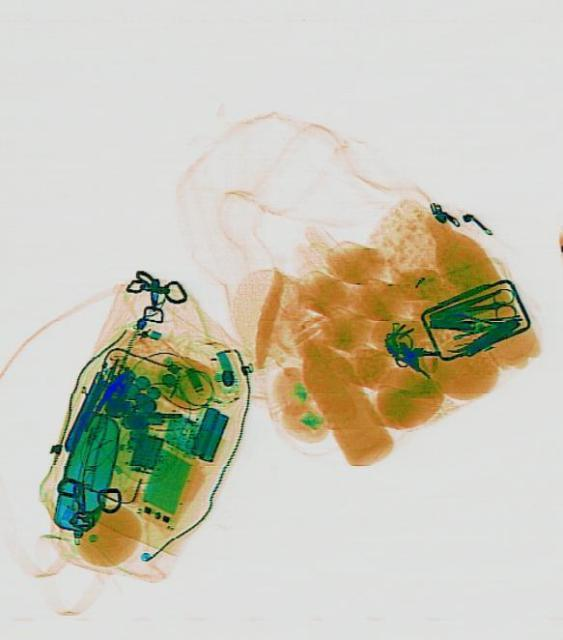Scissors: (453, 286, 518, 326)
